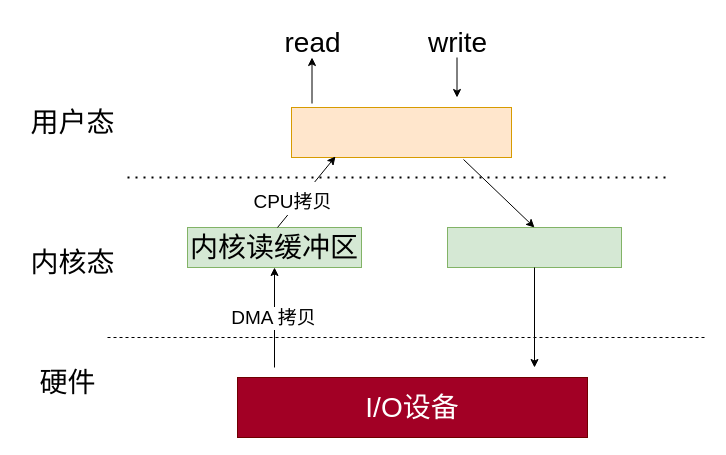
Image size: 726x455. Some labels were removed from this diagram. Each missing label, with the centre of its shape:
"内核写缓冲区" belongs at point (534, 247).
"应用缓冲区" belongs at point (401, 132).
